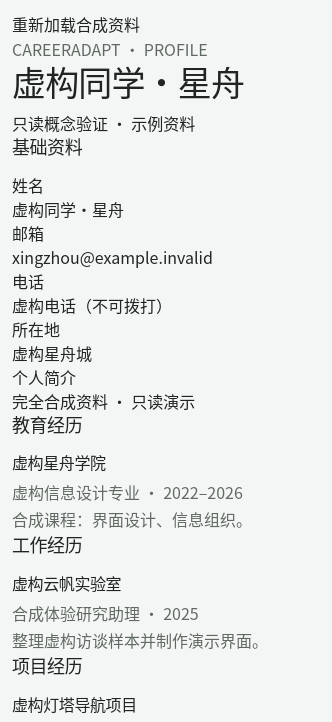
B2-B2 synthetic packaging › reloads through the client, clears old content while pending
Later steps or results of the test are not shown.
Click the button.
click(76, 24)  # box [12,12,140,36]
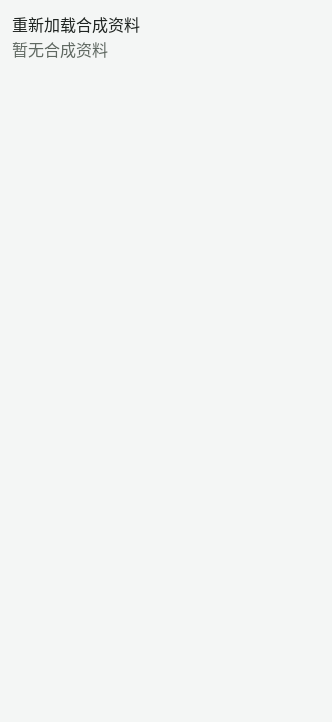
Check: the text "暂无合成资料" is shown, box [12,37,108,61]
